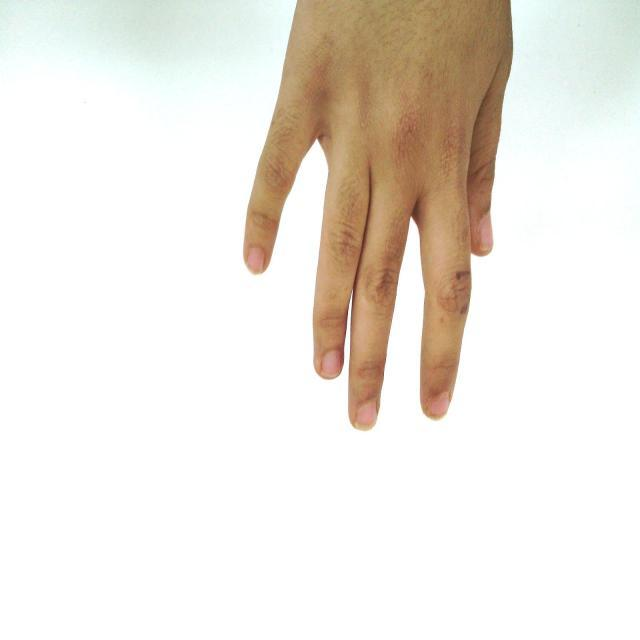Fingernail: (355, 401, 377, 429), (478, 216, 493, 254), (322, 352, 341, 377), (428, 396, 449, 417), (247, 248, 263, 273)
